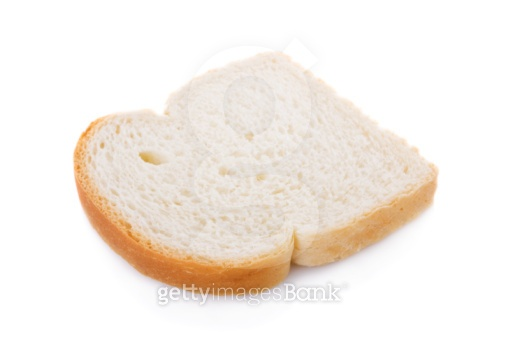slice of bread: (71, 53, 444, 291)
